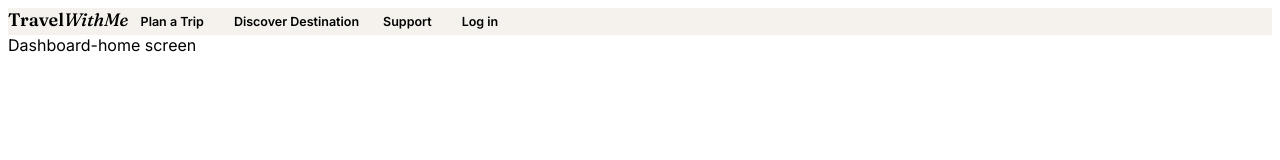
Header › "Discover Destination" routes to journey-entry with the discover intent
This screenshot has width=1280, height=160.
Click the text "Discover Destination": (296, 22) [234,14,359,29]
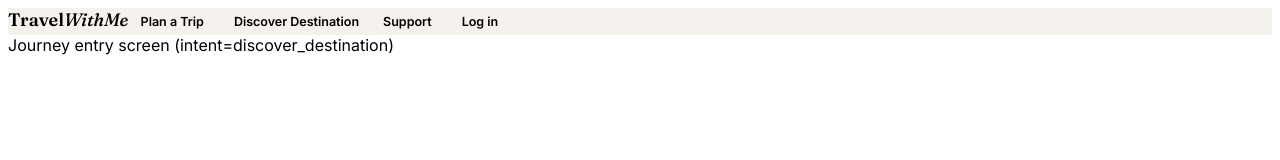
Expected: the text "Journey entry screen (intent=discover_destination)" is shown, [8,35,394,55]
